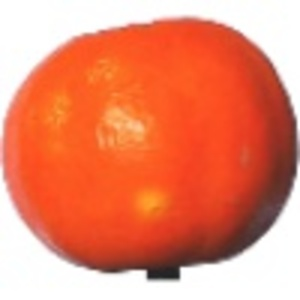tangerina: (1, 14, 300, 279)
